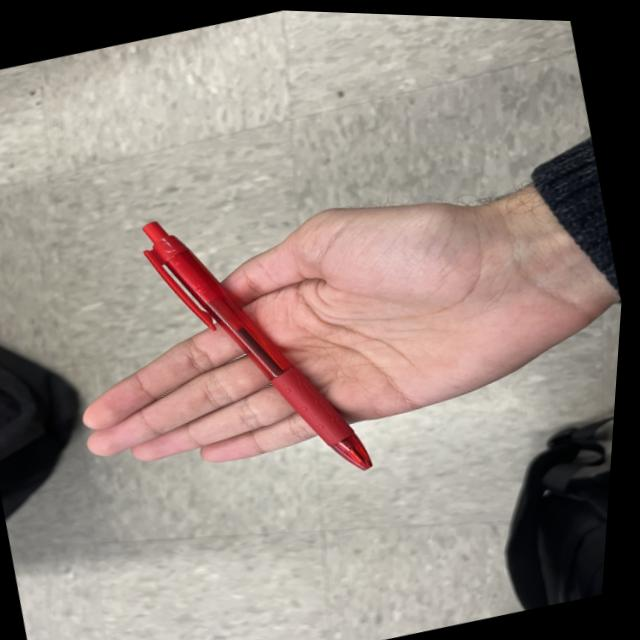pen: (126, 177, 392, 511)
